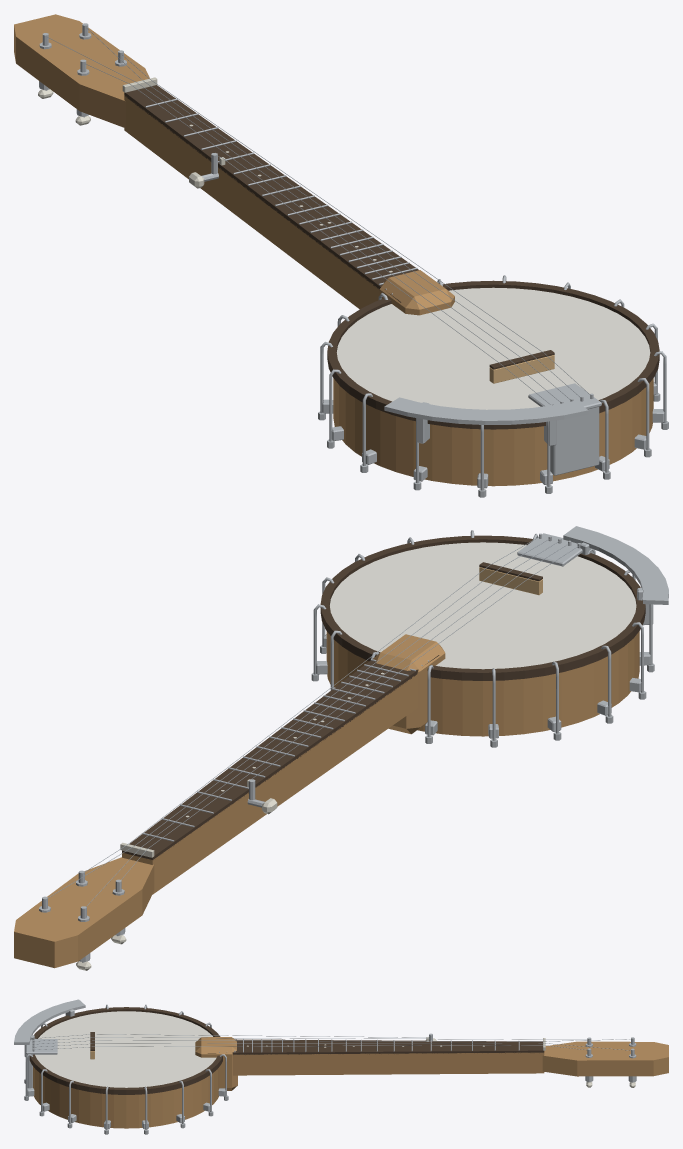
The model's file is A-NEW-20261026-BANJO-001_LOD2_R3.glb.
3 views of the same model, one above another, from view 1: azimuth 30°, elevation 25°; view 2: azimuth 150°, elevation 25°; view 3: azimuth 270°, elevation 25° (orthographic). The views are drawn at different scales.
Parts seen in each view (by area): view 1: closed thin head membrane, open back wooden rim, plain tapered fingerboard, tapered maple neck, plain headstock, dark tension hoop, curved plain armrest, tailpiece rim attachment, thick neck heel, plain tailpiece plate, bridge wooden support; view 2: closed thin head membrane, open back wooden rim, plain tapered fingerboard, plain headstock, tapered maple neck, dark tension hoop, thick neck heel, curved plain armrest, plain tailpiece plate, bridge wooden support; view 3: closed thin head membrane, tapered maple neck, open back wooden rim, plain tapered fingerboard, plain headstock, dark tension hoop, thick neck heel, curved plain armrest, string 3, string 4, string 2, string 5 (+2 smaller).
Part boxes in pixels (x1,y1,x2,y2): closed thin head membrane: [336, 287, 650, 409]; open back wooden rim: [333, 378, 653, 486]; plain tapered fingerboard: [124, 85, 418, 302]; tapered maple neck: [124, 95, 379, 309]; plain headstock: [14, 14, 149, 128]; dark tension hoop: [327, 280, 659, 429]; curved plain armrest: [384, 397, 588, 424]; tailpiece rim attachment: [550, 407, 599, 475]; thick neck heel: [379, 270, 454, 315]; plain tailpiece plate: [528, 383, 601, 409]; bridge wooden support: [489, 355, 554, 383]; closed thin head membrane: [330, 542, 636, 669]; open back wooden rim: [326, 631, 639, 736]; plain tapered fingerboard: [122, 655, 439, 859]; plain headstock: [14, 857, 154, 968]; tapered maple neck: [122, 673, 417, 894]; dark tension hoop: [320, 535, 645, 680]; thick neck heel: [373, 634, 445, 734]; curved plain armrest: [563, 526, 668, 604]; plain tailpiece plate: [517, 533, 582, 566]; bridge wooden support: [479, 567, 542, 595]; closed thin head membrane: [35, 1011, 216, 1087]; tapered maple neck: [233, 1052, 544, 1075]; open back wooden rim: [33, 1066, 219, 1128]; plain tapered fingerboard: [208, 1039, 544, 1054]; plain headstock: [542, 1041, 668, 1076]; dark tension hoop: [29, 1007, 222, 1094]; thick neck heel: [195, 1037, 237, 1090]; curved plain armrest: [14, 999, 85, 1044]; string 3: [35, 1039, 630, 1044]; string 4: [35, 1043, 630, 1050]; string 2: [36, 1037, 587, 1041]; string 5: [35, 1045, 586, 1050].
Size of the model in its own units: 0.3005 by 0.0832 by 0.9665.
